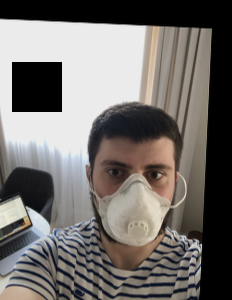with_mask: (94, 152, 174, 246)
